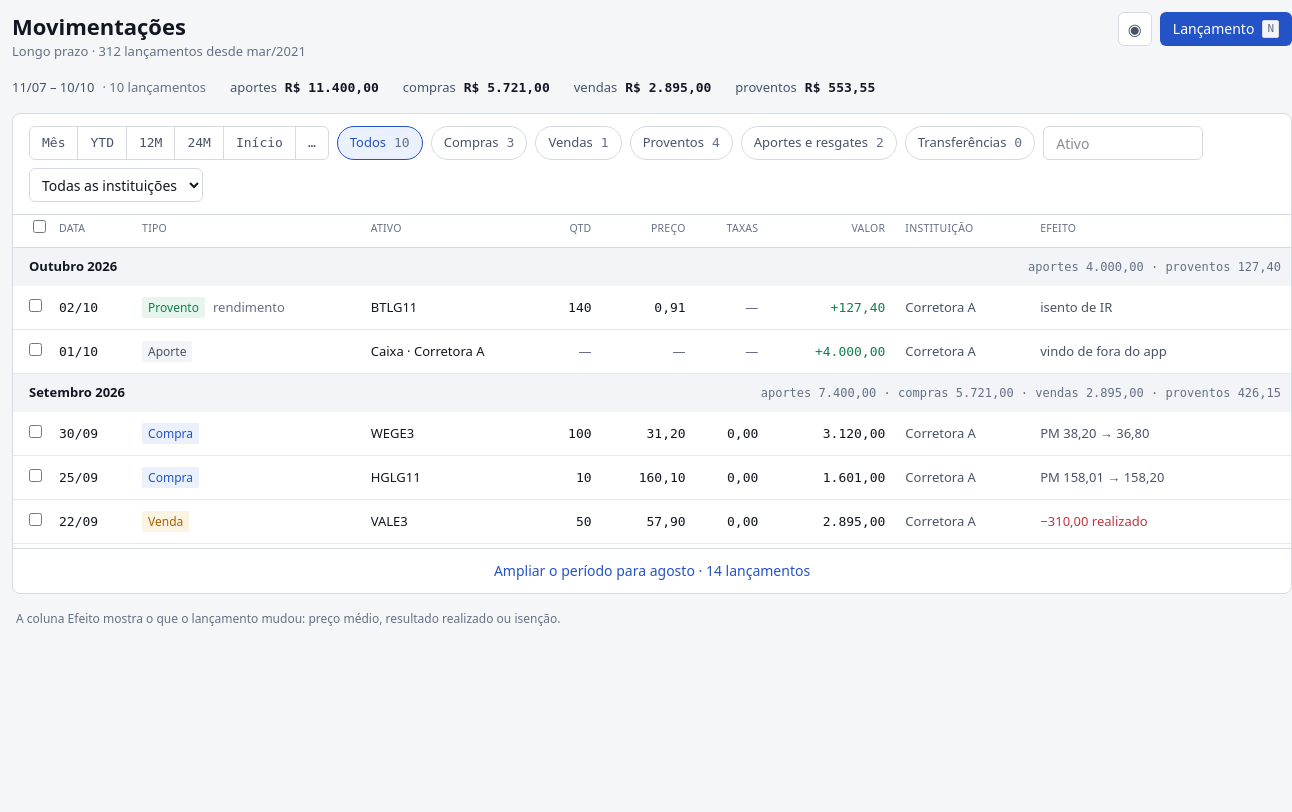
it: tela de Movimentações › a exclusão que a api recusa não finge ter acontecido
Expected: the column heading "Outubro 2026" is shown, 13,248 -> 540,286
Click the checkbox named "Selecionar Venda de VALE3": (36, 519) 29,513 -> 42,526
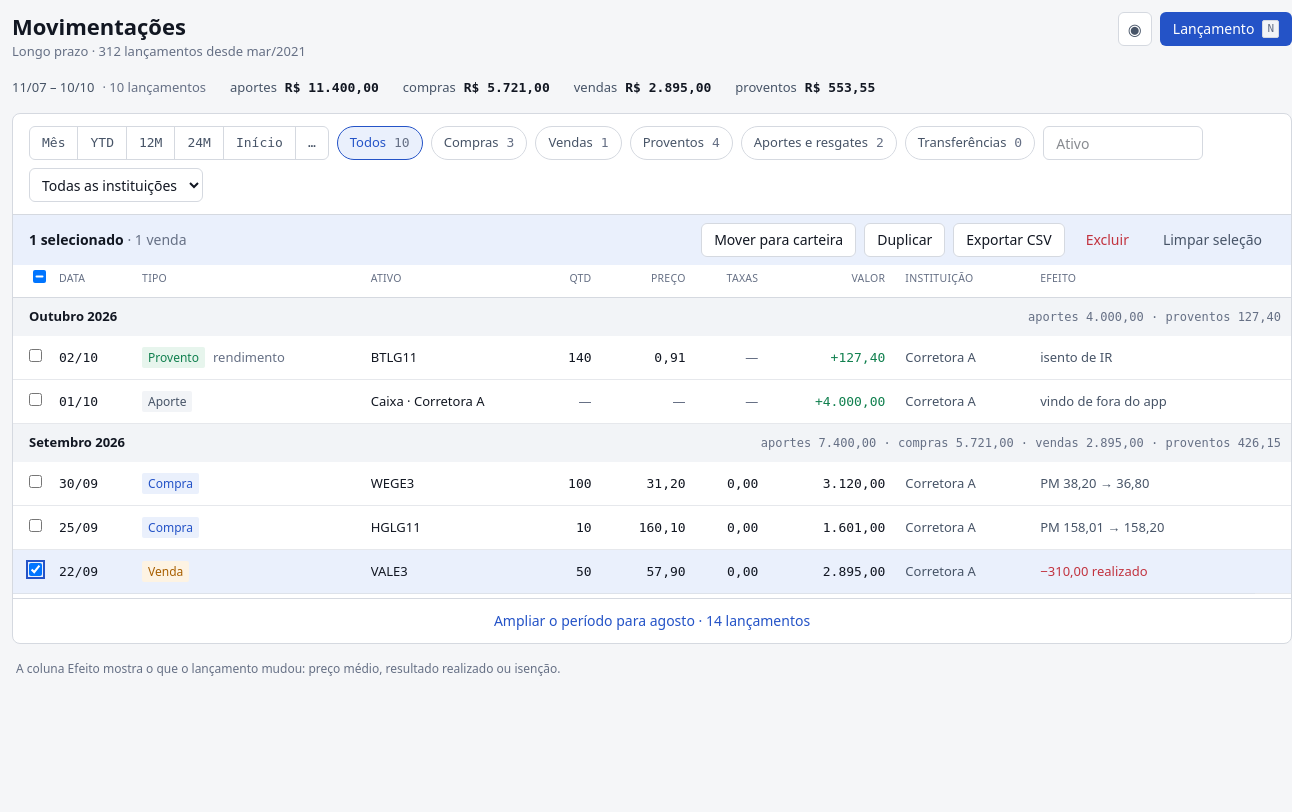
Click the button "Excluir": (1107, 240) 1073,223 -> 1142,257
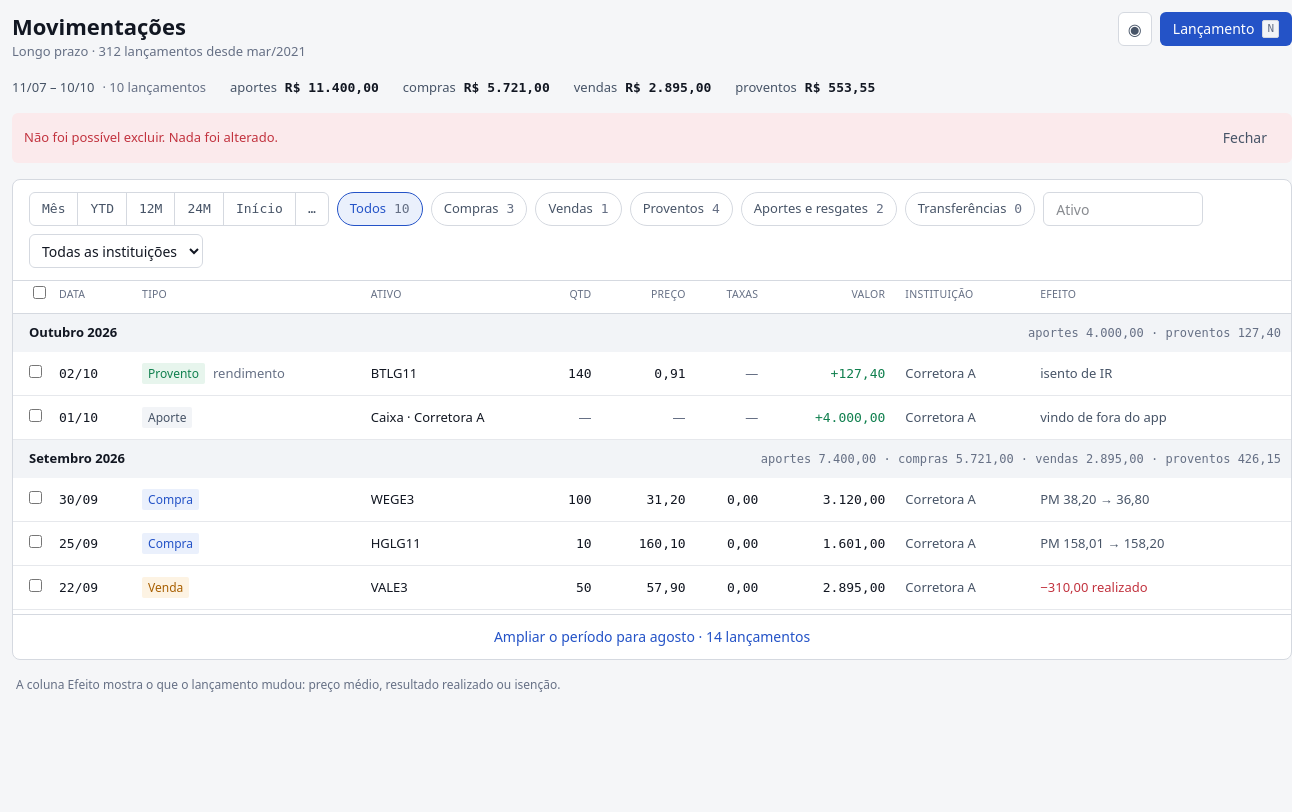
Expected: the text "Não foi possível excluir. Nada foi alterado." is shown, 24,128 -> 278,148
